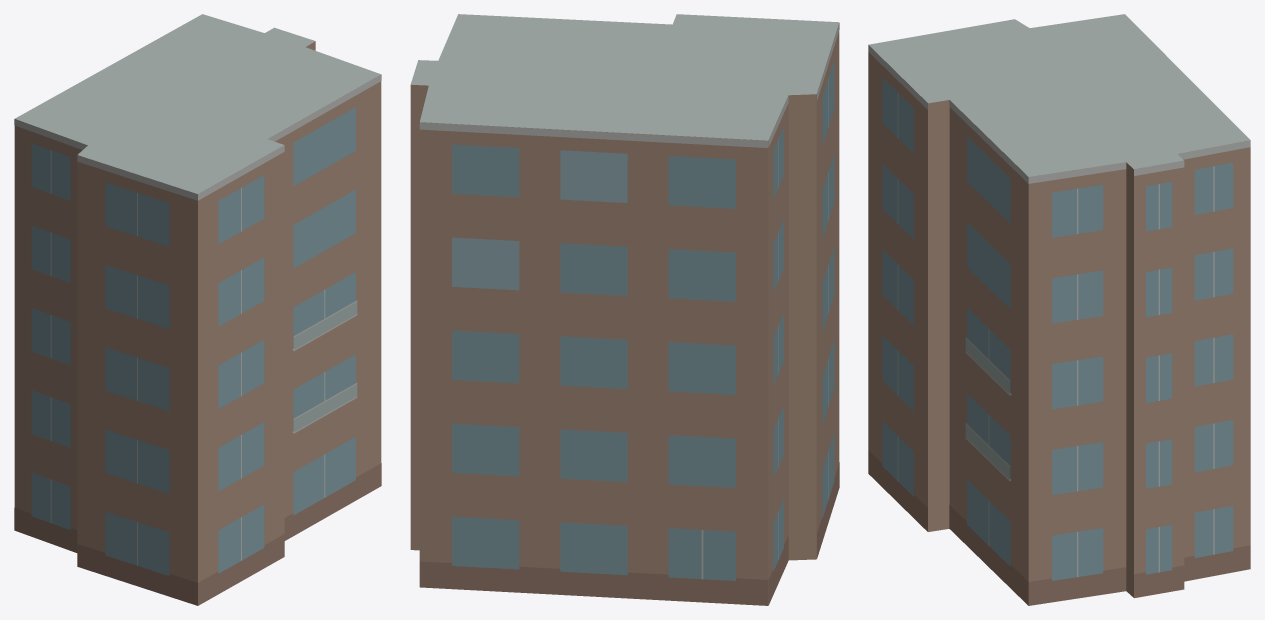
Rendered from survey-upis-32853872.glb.
3 views of the same model, side by side, from view 1: azimuth 30°, elevation 25°; view 2: azimuth 150°, elevation 25°; view 3: azimuth 270°, elevation 25° (orthographic). The views are drawn at different scales.
Visible parts, largest first — view 1: survey-upis-32853872.tmp; view 2: survey-upis-32853872.tmp; view 3: survey-upis-32853872.tmp.
Boxes of the visible parts, left/top/right/bottom form: survey-upis-32853872.tmp: left=14, top=14, right=381, bottom=605; survey-upis-32853872.tmp: left=410, top=14, right=839, bottom=605; survey-upis-32853872.tmp: left=868, top=14, right=1250, bottom=605.
Bounding box in the file's own units: 12.42 × 15.23 × 12.31.
